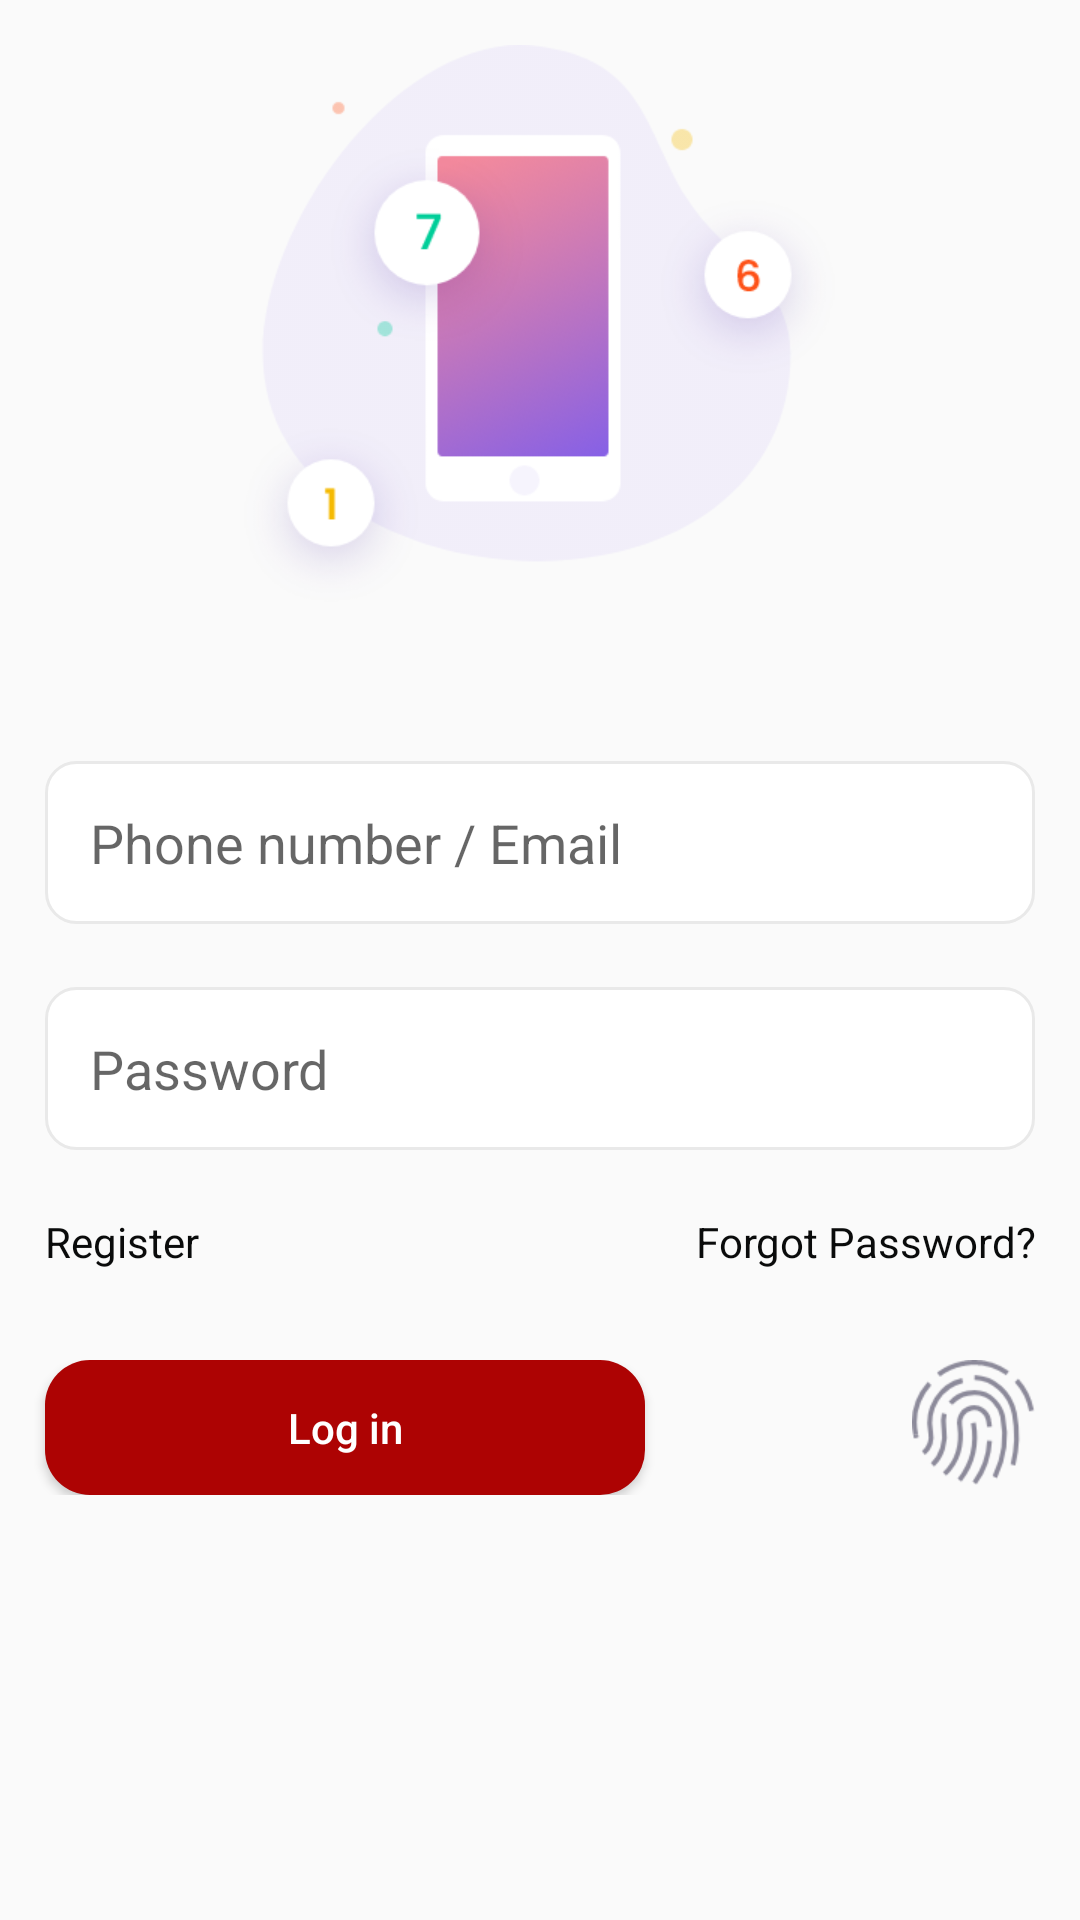

Screen size 1080w x 1920h. Icon name, then its box in pixels as (x1, y1, x2, y2):
touch: (912, 1360, 1034, 1484)
